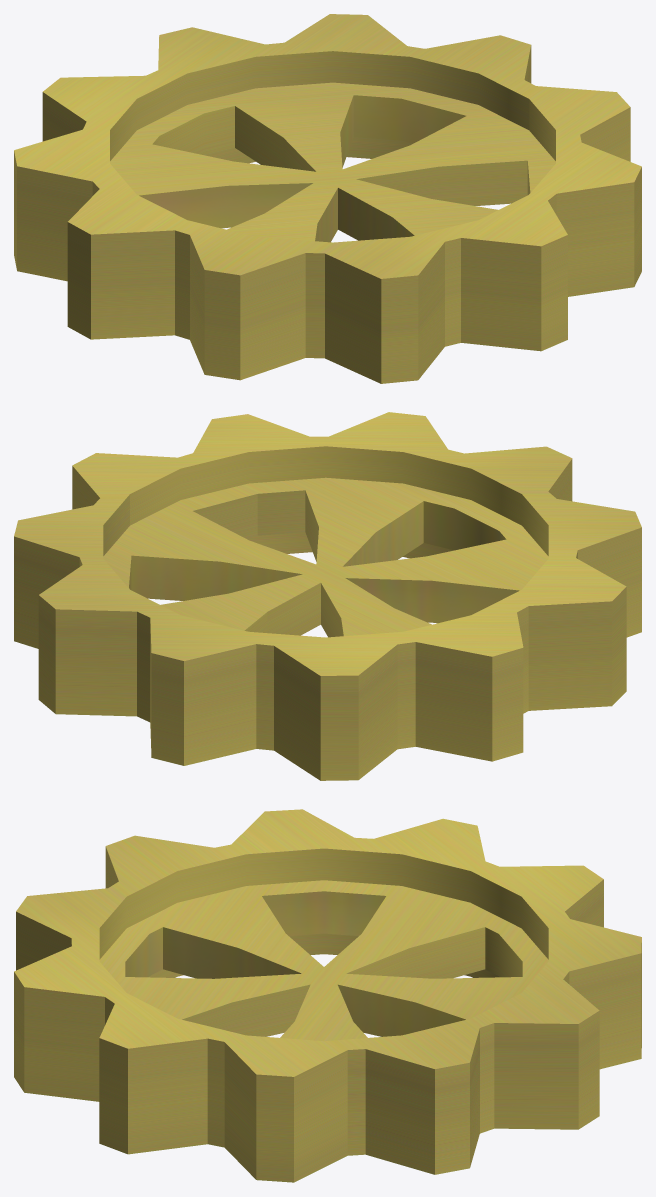
The model's file is CogInset5Spoke011.fbx.
3 views of the same model, one above another, from view 1: azimuth 30°, elevation 25°; view 2: azimuth 150°, elevation 25°; view 3: azimuth 270°, elevation 25° (orthographic).
Visible parts, largest first — view 1: CogInset5Spoke011; view 2: CogInset5Spoke011; view 3: CogInset5Spoke011.
Boxes of the visible parts, x1=… form: CogInset5Spoke011: x1=14, y1=14, x2=641, y2=383; CogInset5Spoke011: x1=14, y1=412, x2=641, y2=780; CogInset5Spoke011: x1=14, y1=809, x2=641, y2=1182.
Size of the model in its own units: 107 by 19.69 by 106.
